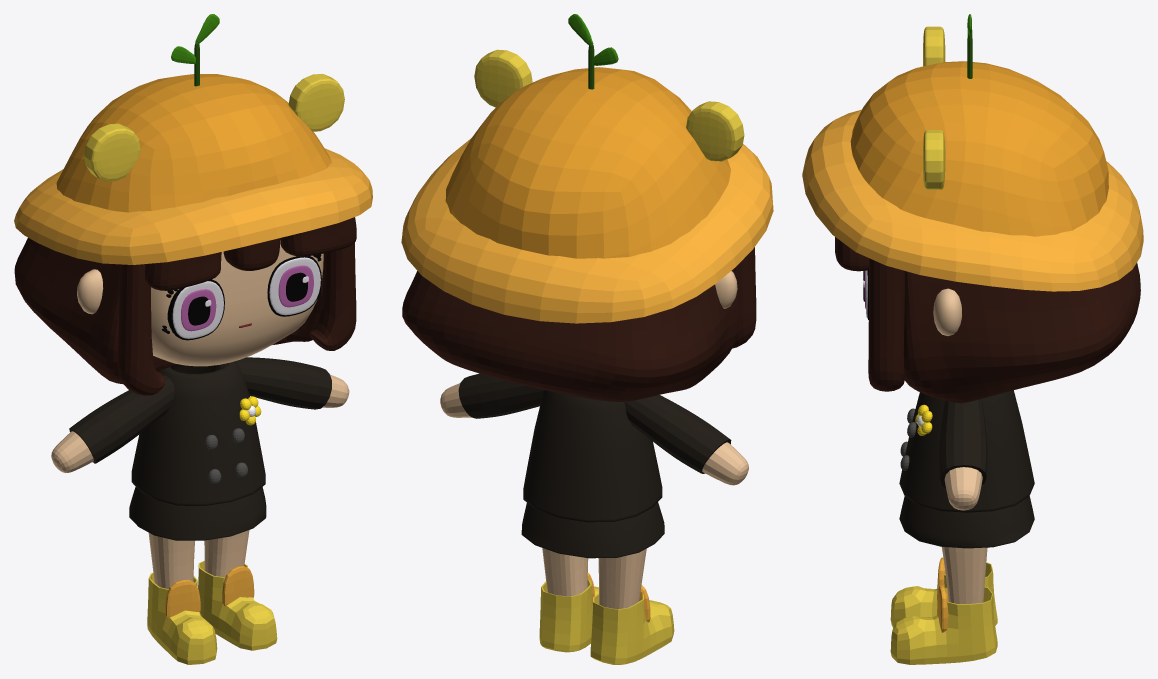
File: WatanabeFinal2.fbx
3 renders of one model, left to right at view 1: azimuth 30°, elevation 25°; view 2: azimuth 150°, elevation 25°; view 3: azimuth 270°, elevation 25°, orthographic. The views are drawn at different scales.
Visible parts, largest first — view 1: Chapeu em cima.003, Chapeu lado.003, Blusa, Cabelo.001, Cabeca, Ladinho.001, Jaqueta, Sapato, Bolinhas.003, Saia, Franja Lado.001, Pernas (+8 smaller); view 2: Chapeu em cima.003, Chapeu lado.003, Cabelo.001, Blusa, Sapato, Jaqueta, Saia, Bolinhas.003, Pernas, Bracos, Ladinho.001, Orelhas; view 3: Chapeu em cima.003, Chapeu lado.003, Cabelo.001, Blusa, Sapato, Saia, Ladinho.001, Jaqueta, Pernas, Bolinhas.003, Bracos, Orelhas (+2 smaller).
Boxes of the visible parts, <box> form: Chapeu em cima.003: <box>56,74,331,212</box>; Chapeu lado.003: <box>14,148,372,264</box>; Blusa: <box>131,360,265,505</box>; Cabelo.001: <box>14,237,322,383</box>; Cabeca: <box>151,240,323,366</box>; Ladinho.001: <box>118,242,356,395</box>; Jaqueta: <box>69,357,331,463</box>; Sapato: <box>147,560,277,664</box>; Bolinhas.003: <box>84,74,344,181</box>; Saia: <box>129,487,266,540</box>; Franja Lado.001: <box>145,217,356,290</box>; Pernas: <box>148,530,249,589</box>; Chapeu em cima.003: <box>445,67,730,258</box>; Chapeu lado.003: <box>401,138,773,323</box>; Cabelo.001: <box>402,268,739,401</box>; Blusa: <box>523,390,662,522</box>; Sapato: <box>539,579,674,664</box>; Jaqueta: <box>458,373,731,473</box>; Saia: <box>521,502,664,558</box>; Bolinhas.003: <box>474,49,744,161</box>; Pernas: <box>542,548,646,609</box>; Bracos: <box>440,383,748,485</box>; Ladinho.001: <box>732,247,756,348</box>; Orelhas: <box>715,271,737,308</box>; Chapeu em cima.003: <box>850,61,1108,236</box>; Chapeu lado.003: <box>802,109,1143,291</box>; Cabelo.001: <box>903,263,1140,403</box>; Blusa: <box>899,390,1034,512</box>; Sapato: <box>890,562,997,664</box>; Saia: <box>899,496,1034,548</box>; Ladinho.001: <box>868,258,904,391</box>; Jaqueta: <box>939,399,987,488</box>; Pernas: <box>941,547,987,603</box>; Bolinhas.003: <box>923,26,945,189</box>; Bracos: <box>944,467,982,510</box>; Orelhas: <box>933,288,961,335</box>.
Size of the model in its own units: 199 by 390 by 190.
